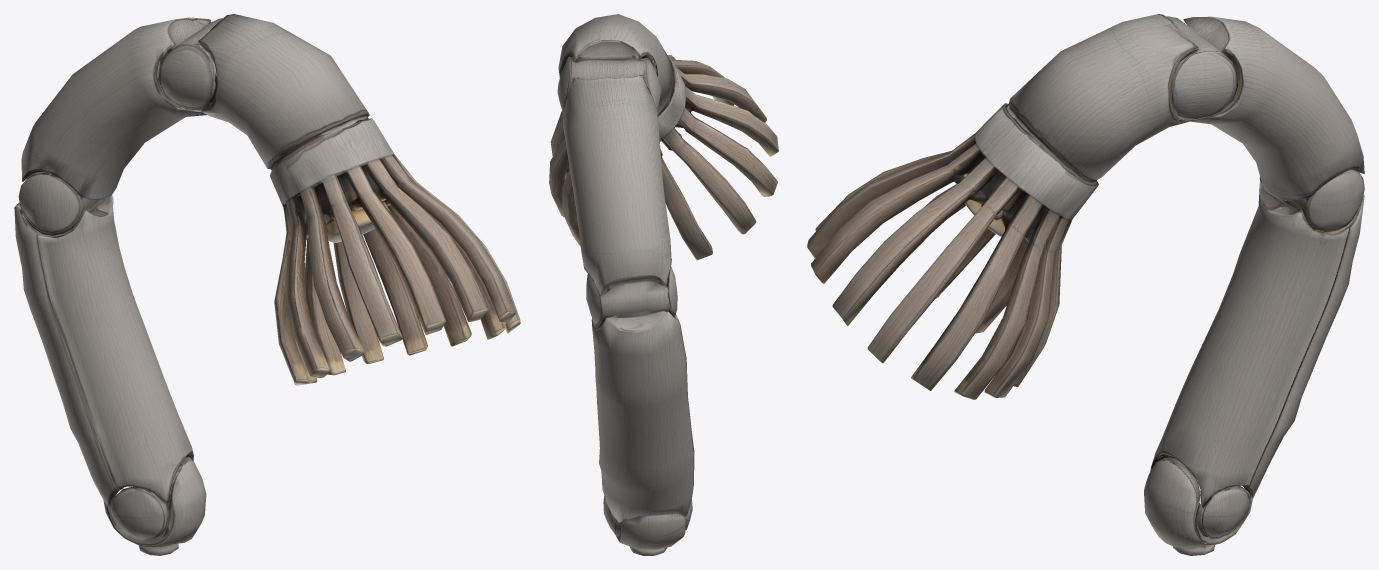
Rendered from lamp_02.glb.
3 renders of one model, left to right at view 1: azimuth 30°, elevation 25°; view 2: azimuth 150°, elevation 25°; view 3: azimuth 270°, elevation 25°, orthographic. The views are drawn at different scales.
Visible parts, largest first — view 1: tripo_node_ee51c2b5-248f-4ed2-993c-d3b96512ddf3; view 2: tripo_node_ee51c2b5-248f-4ed2-993c-d3b96512ddf3; view 3: tripo_node_ee51c2b5-248f-4ed2-993c-d3b96512ddf3.
Boxes of the visible parts, x1,y1,x2,y2 form: tripo_node_ee51c2b5-248f-4ed2-993c-d3b96512ddf3: (14, 14, 520, 555); tripo_node_ee51c2b5-248f-4ed2-993c-d3b96512ddf3: (549, 14, 778, 555); tripo_node_ee51c2b5-248f-4ed2-993c-d3b96512ddf3: (807, 14, 1364, 555).
Size of the model in its own units: 0.5821 by 0.9785 by 0.8846.
1 material, 1 textured.
